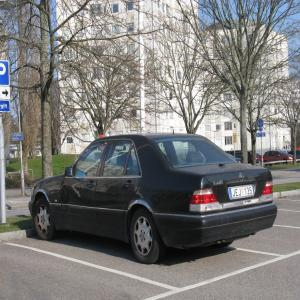Vehicle-registration-plate: (229, 184, 255, 200)
